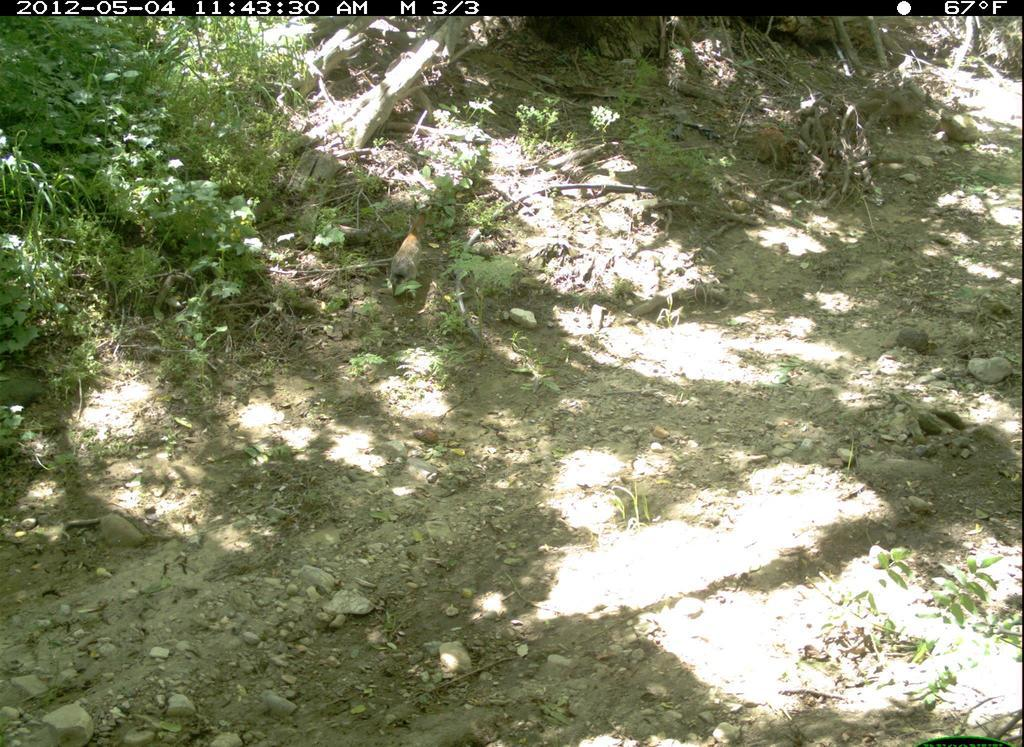rabbit: (386, 204, 437, 310)
